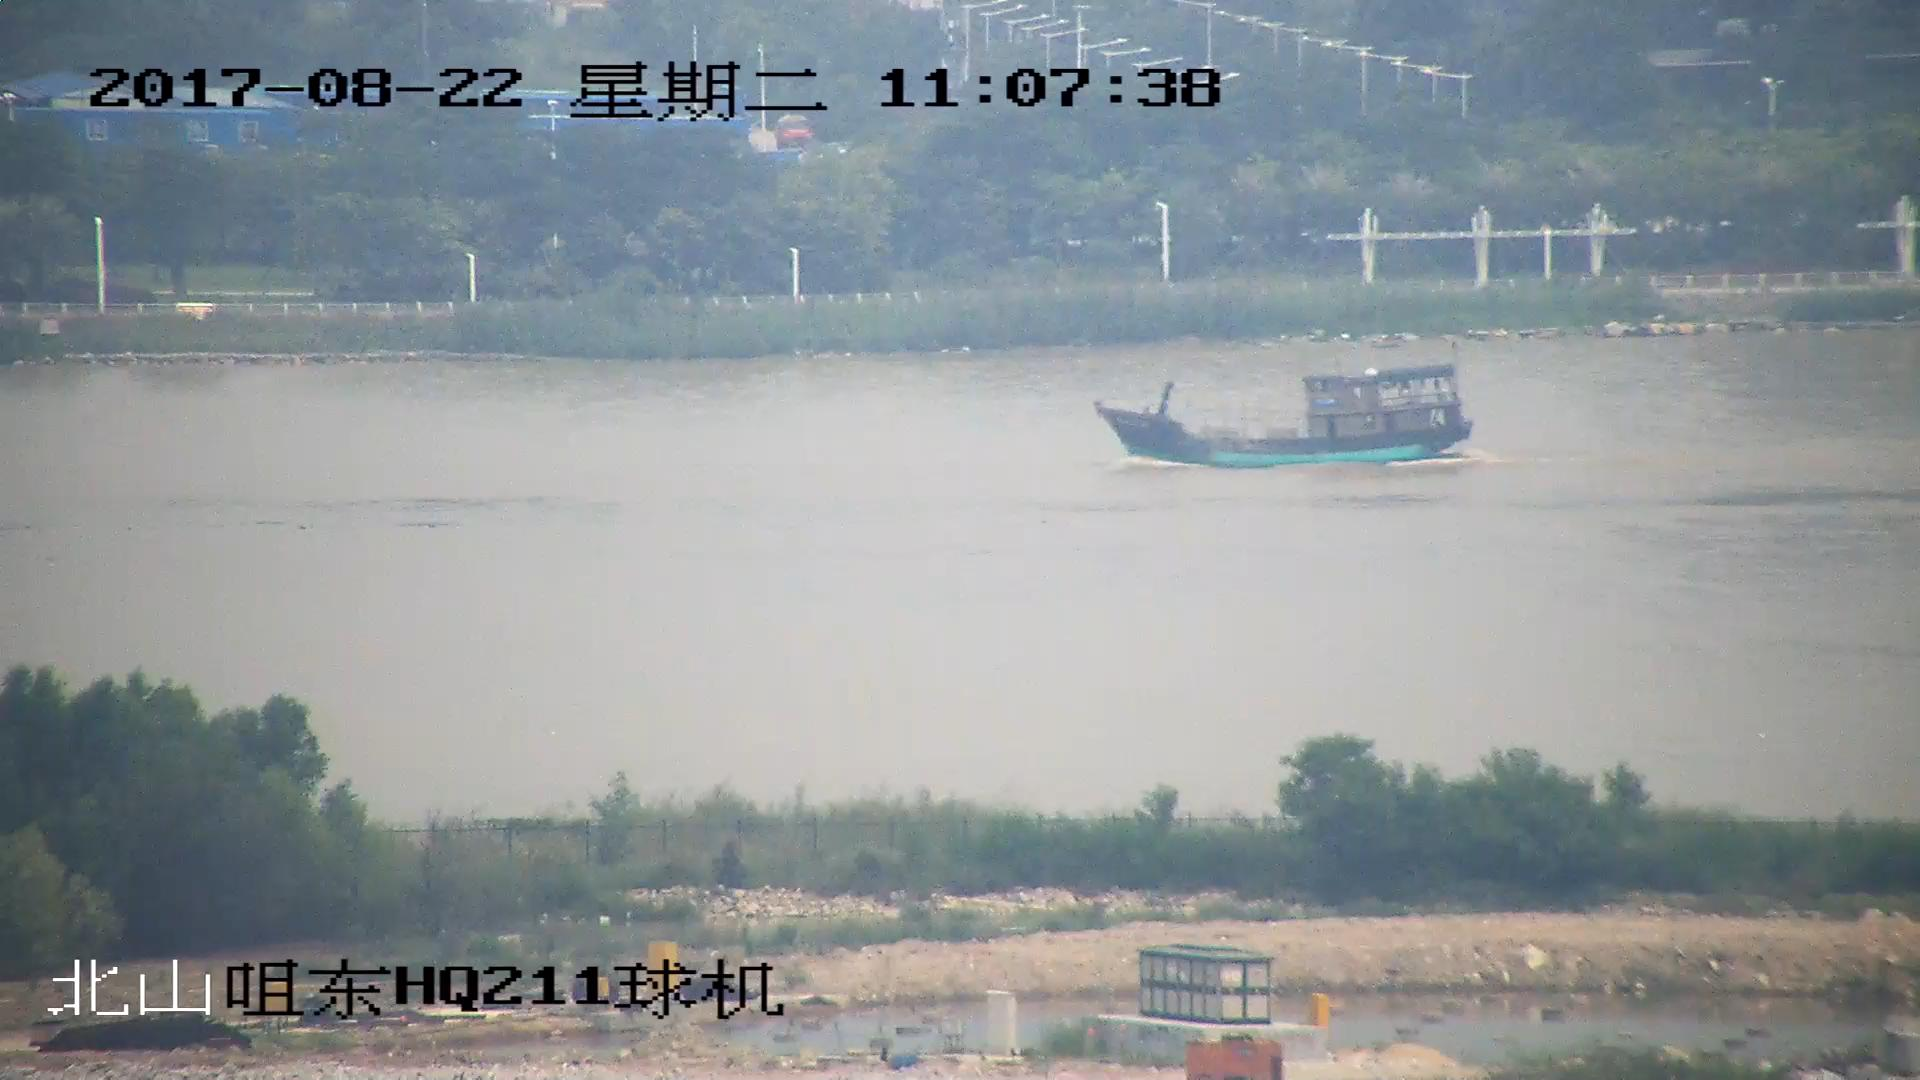fishing boat: (1102, 365, 1473, 465)
